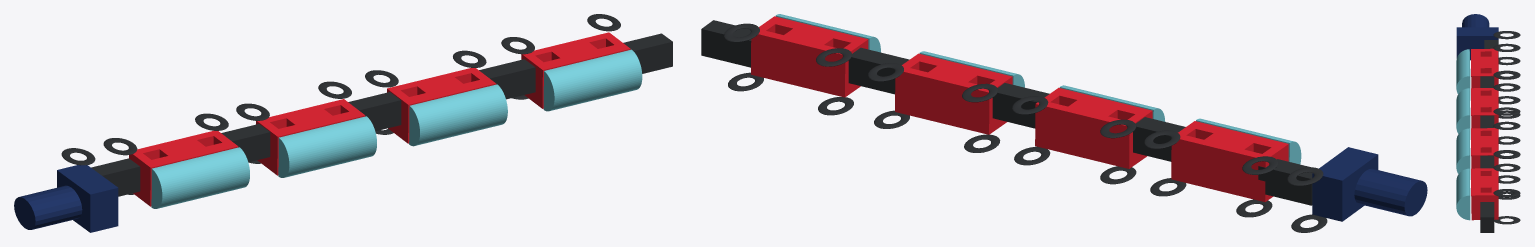
Rendered from tinker.obj.
3 renders of one model, left to right at view 1: azimuth 30°, elevation 25°; view 2: azimuth 150°, elevation 25°; view 3: azimuth 270°, elevation 25°, orthographic. The views are drawn at different scales.
Parts seen in each view (by area): view 1: group_0_7720667, group_0_15277357, group_0_2829873, group_0_1650274; view 2: group_0_15277357, group_0_2829873, group_0_1650274, group_0_7720667; view 3: group_0_15277357, group_0_2829873, group_0_7720667, group_0_1650274.
Boxes of the visible parts, x1=… form: group_0_7720667: x1=151, y1=49, x2=642, y2=208; group_0_15277357: x1=129, y1=32, x2=630, y2=206; group_0_2829873: x1=61, y1=14, x2=672, y2=196; group_0_1650274: x1=14, y1=165, x2=118, y2=232; group_0_15277357: x1=751, y1=16, x2=1288, y2=201; group_0_2829873: x1=701, y1=20, x2=1327, y2=232; group_0_1650274: x1=1312, y1=147, x2=1427, y2=221; group_0_7720667: x1=775, y1=14, x2=1301, y2=164; group_0_15277357: x1=1471, y1=48, x2=1498, y2=220; group_0_2829873: x1=1480, y1=31, x2=1520, y2=232; group_0_7720667: x1=1456, y1=49, x2=1470, y2=220; group_0_1650274: x1=1456, y1=14, x2=1498, y2=60.
Bounding box in the file's own units: 349 × 26 × 47.17.
